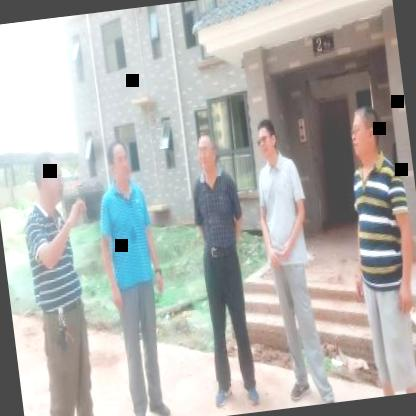head: (344, 95, 388, 170), (28, 143, 66, 214), (105, 132, 136, 192), (192, 126, 221, 180), (252, 114, 283, 162)
